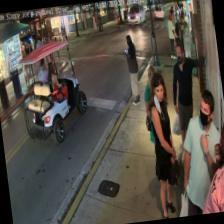person: (165, 38, 220, 166), (171, 86, 224, 215), (142, 70, 182, 218), (190, 116, 224, 213)
